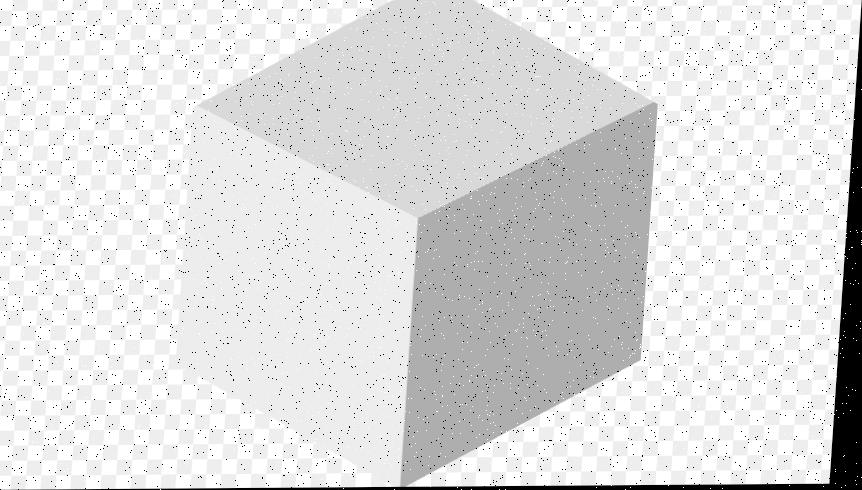cube: (173, 0, 668, 477)
